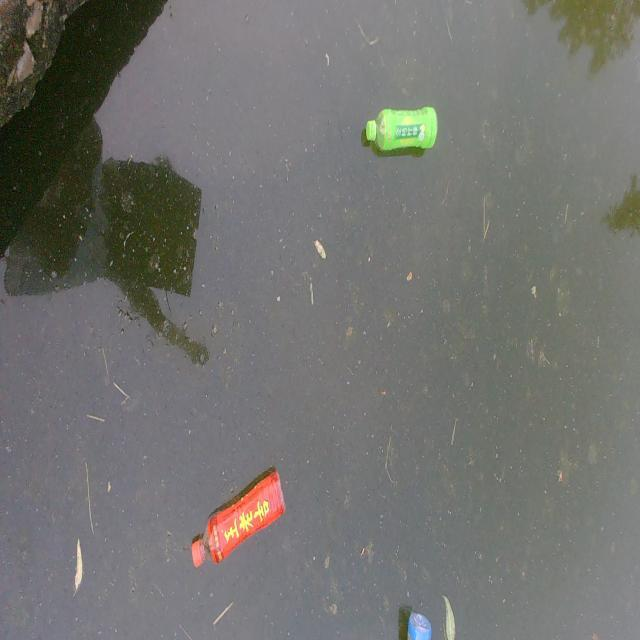garbage: (191, 465, 286, 569), (365, 105, 439, 152)
